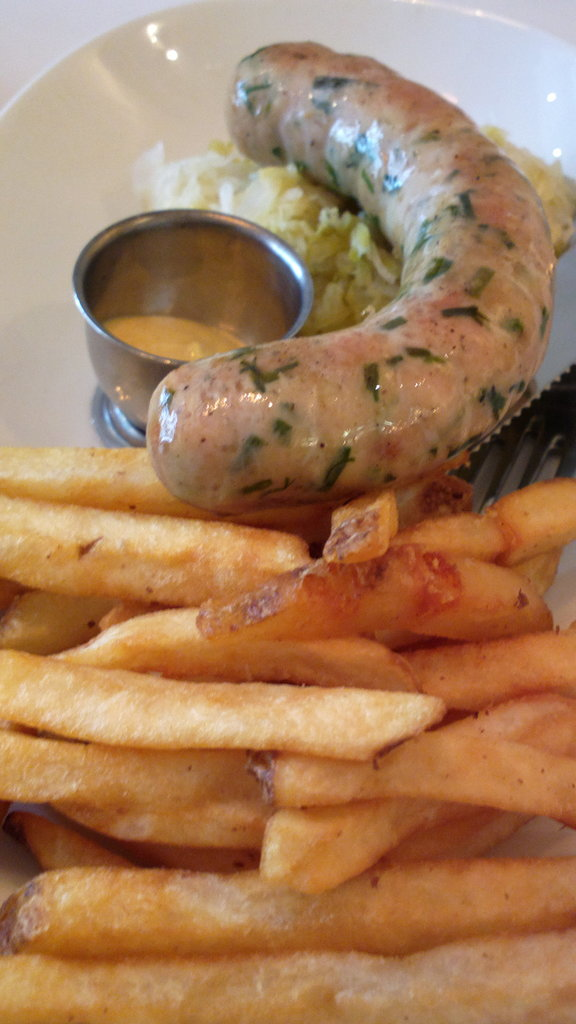French fries: (1, 186, 569, 1024)
